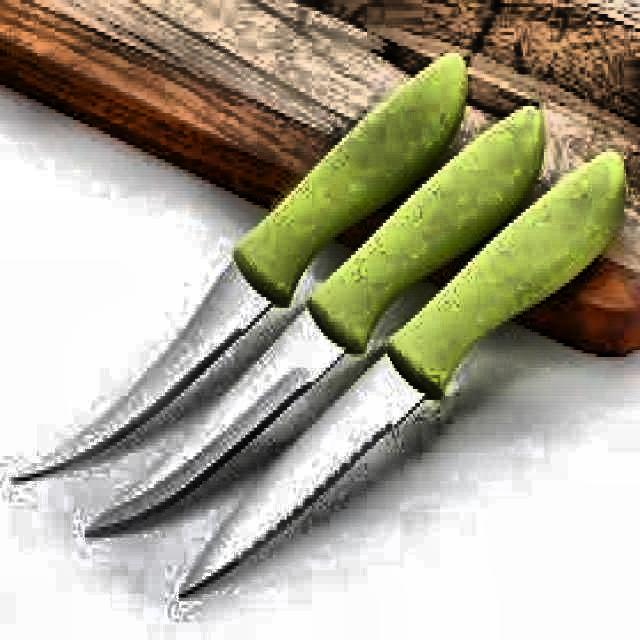knife: (84, 100, 552, 553), (177, 144, 631, 606), (9, 48, 470, 490)
